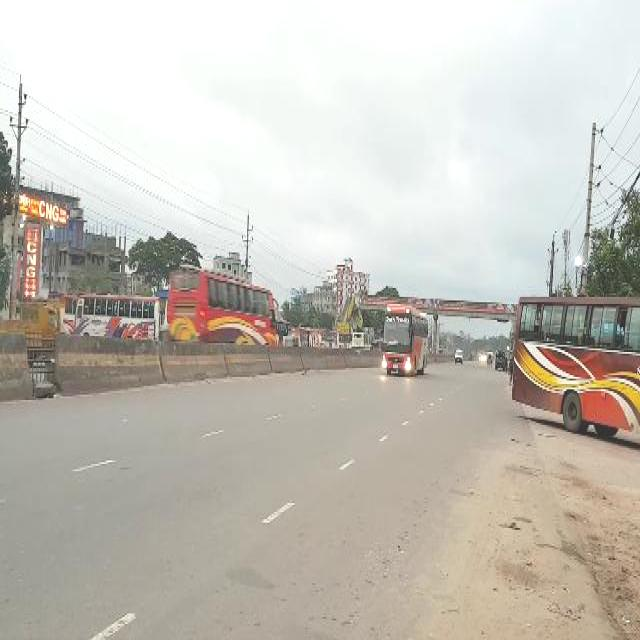BUS: (505, 281, 640, 451), (171, 270, 280, 356), (384, 303, 426, 380)
